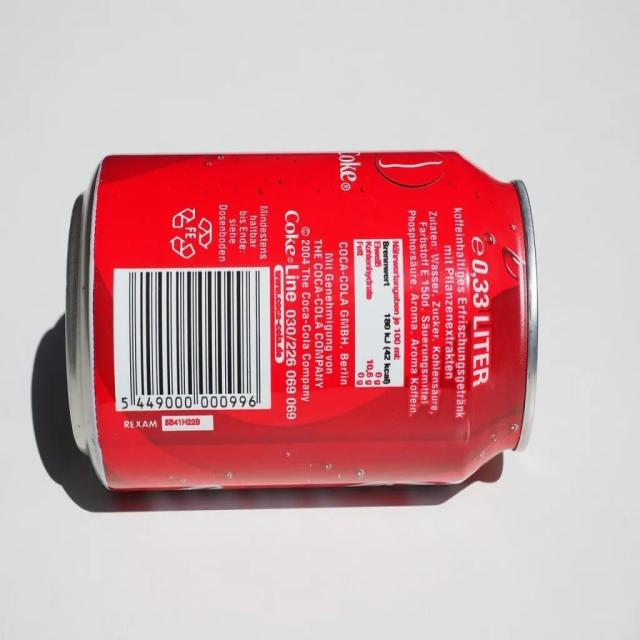Codigo_barras: (114, 269, 272, 411)
